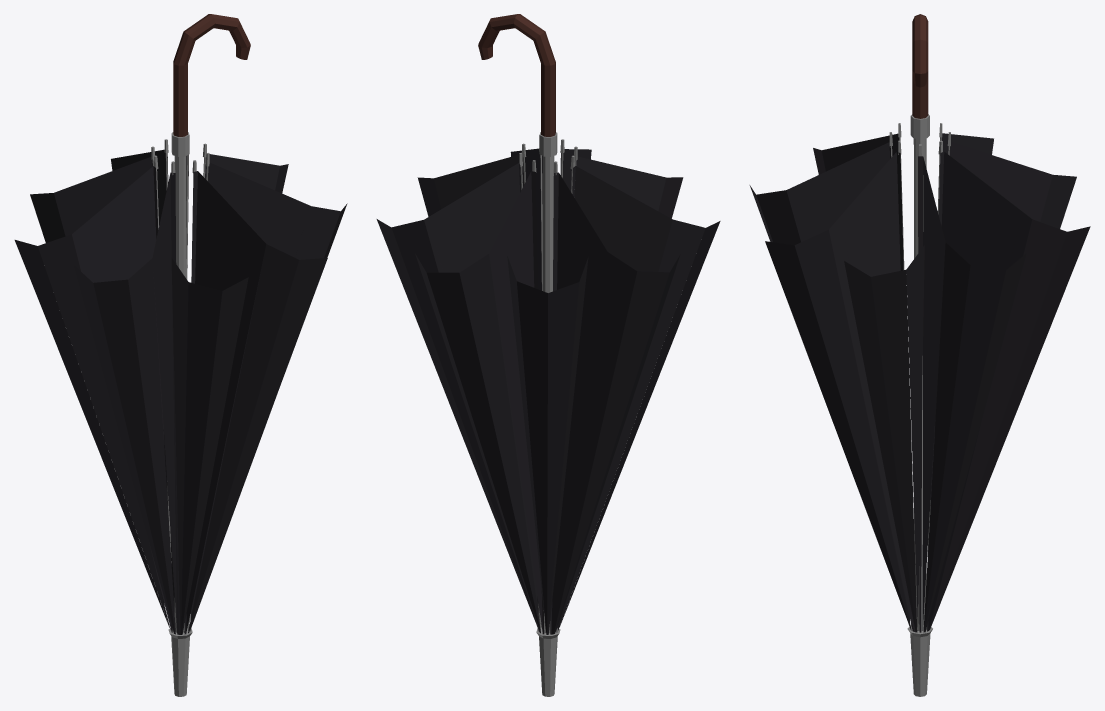
The model's file is Closed Umbrella.glb.
3 views of the same model, side by side, from view 1: azimuth 30°, elevation 25°; view 2: azimuth 150°, elevation 25°; view 3: azimuth 270°, elevation 25° (orthographic). The views are drawn at different scales.
Visible parts, largest first — view 1: Closed_umbrella; view 2: Closed_umbrella; view 3: Closed_umbrella.
Boxes of the visible parts, x1,y1,x2,y2 form: Closed_umbrella: (14,14,347,696); Closed_umbrella: (376,14,720,696); Closed_umbrella: (749,14,1090,696).
Size of the model in its own units: 0.3252 by 0.7289 by 0.3246.
Materials: 1 (1 with a texture image).
